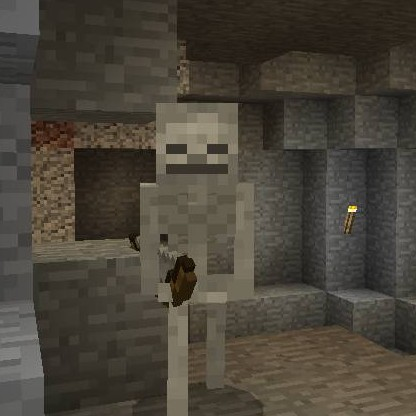skeleton: (136, 95, 257, 237)
